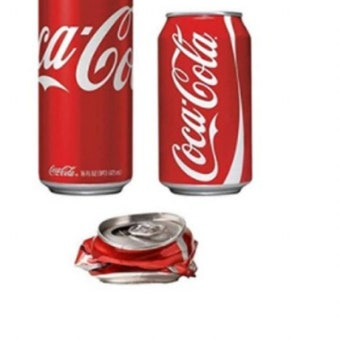paper: (34, 0, 141, 197), (154, 9, 254, 204), (71, 206, 200, 284)
